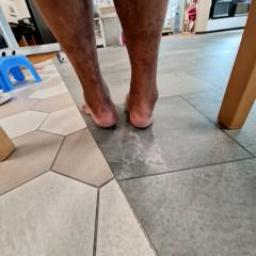Back View -Both Feet-: (65, 57, 180, 145)
